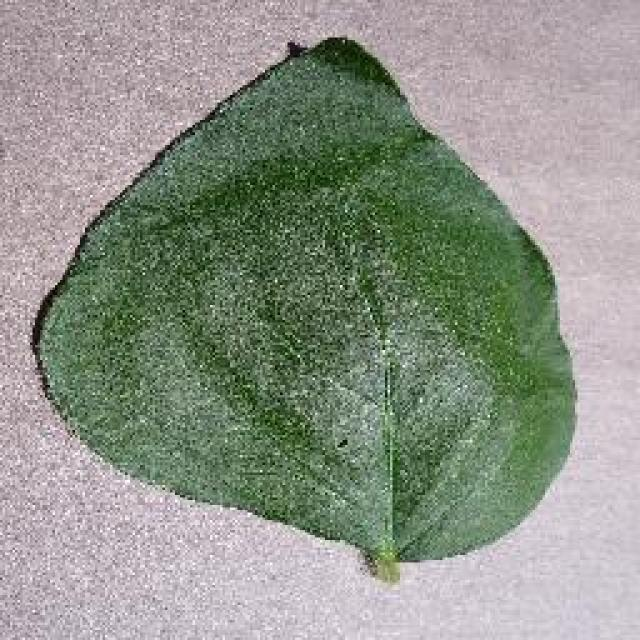Soy_healthy: (53, 62, 579, 535)
